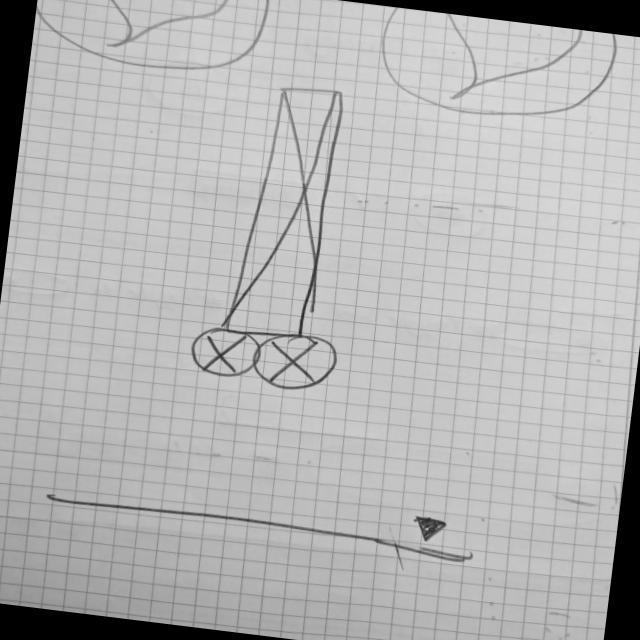icon-button: (373, 7, 622, 134), (31, 1, 277, 86)
image: (224, 78, 351, 345), (249, 330, 345, 398), (187, 323, 266, 382)
select: (38, 467, 479, 568)
